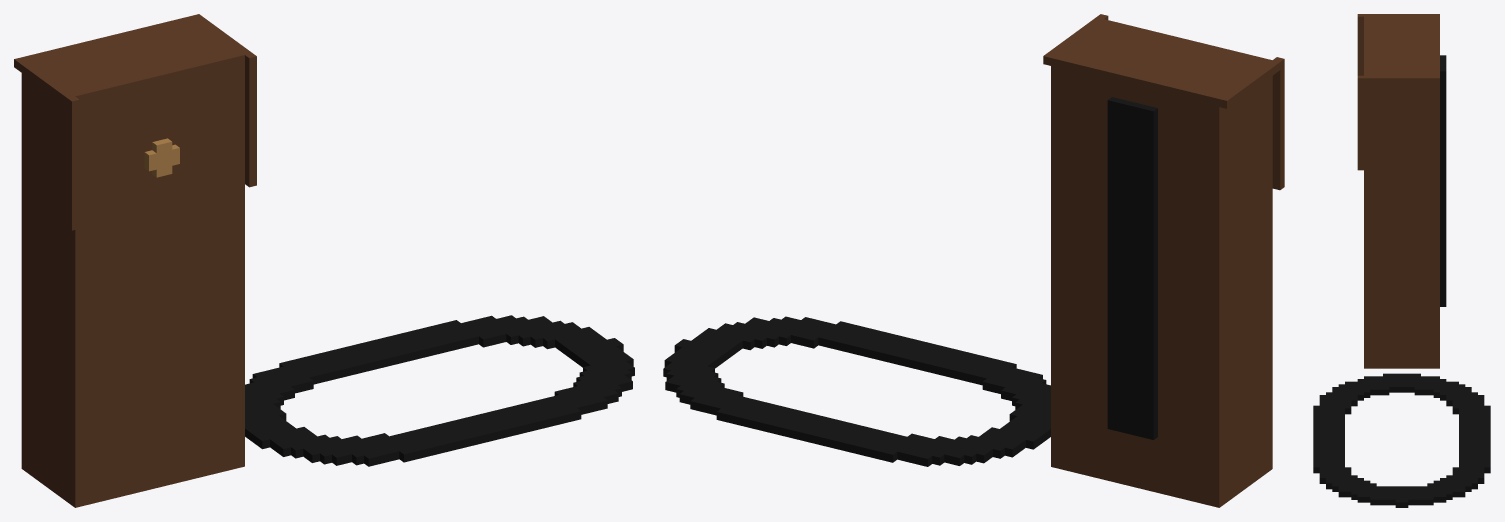
The model's file is chestpouch_leather.glb.
3 renders of one model, left to right at view 1: azimuth 30°, elevation 25°; view 2: azimuth 150°, elevation 25°; view 3: azimuth 270°, elevation 25°, orthographic. The views are drawn at different scales.
Visible parts, largest first — view 1: chestpouch_leather:compound; view 2: chestpouch_leather:compound; view 3: chestpouch_leather:compound.
Boxes of the visible parts, x1=… form: chestpouch_leather:compound: x1=14, y1=14, x2=634, y2=507; chestpouch_leather:compound: x1=663, y1=14, x2=1284, y2=507; chestpouch_leather:compound: x1=1313, y1=14, x2=1490, y2=507.
Bounding box in the file's own units: 0.3 × 0.204 × 0.112.
